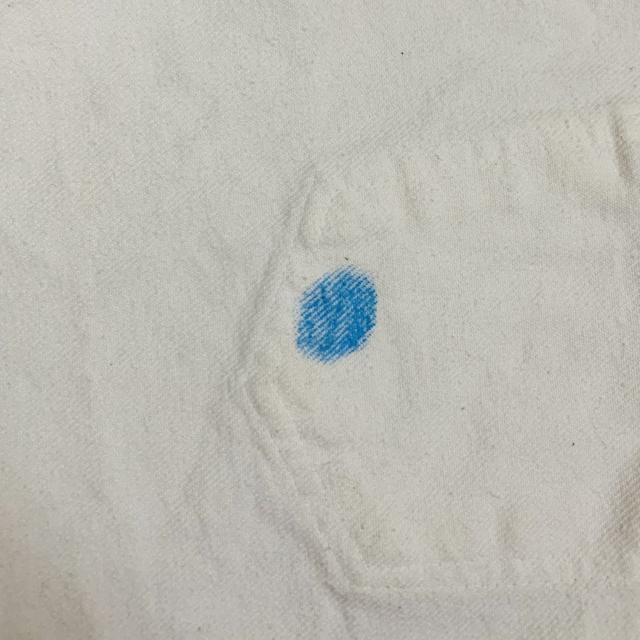Stain: (297, 266, 378, 362)
